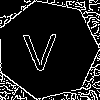V: (23, 24, 58, 71)
